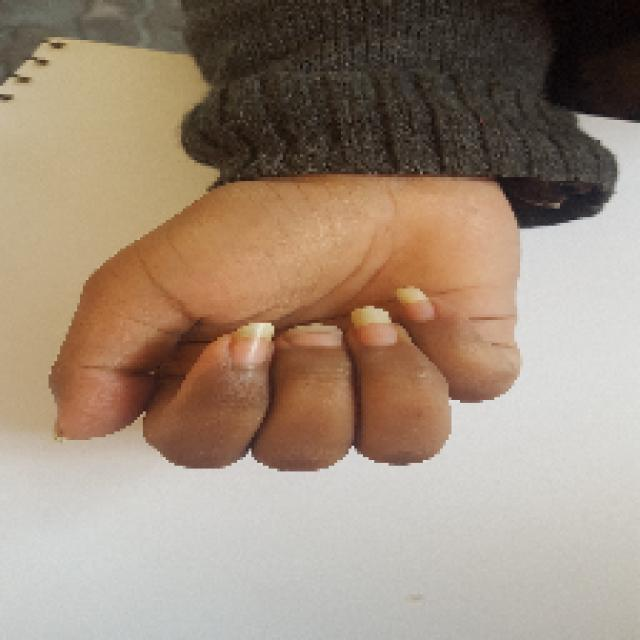Nail: (230, 322, 275, 369), (351, 305, 398, 346), (284, 322, 342, 347), (395, 286, 435, 322)
